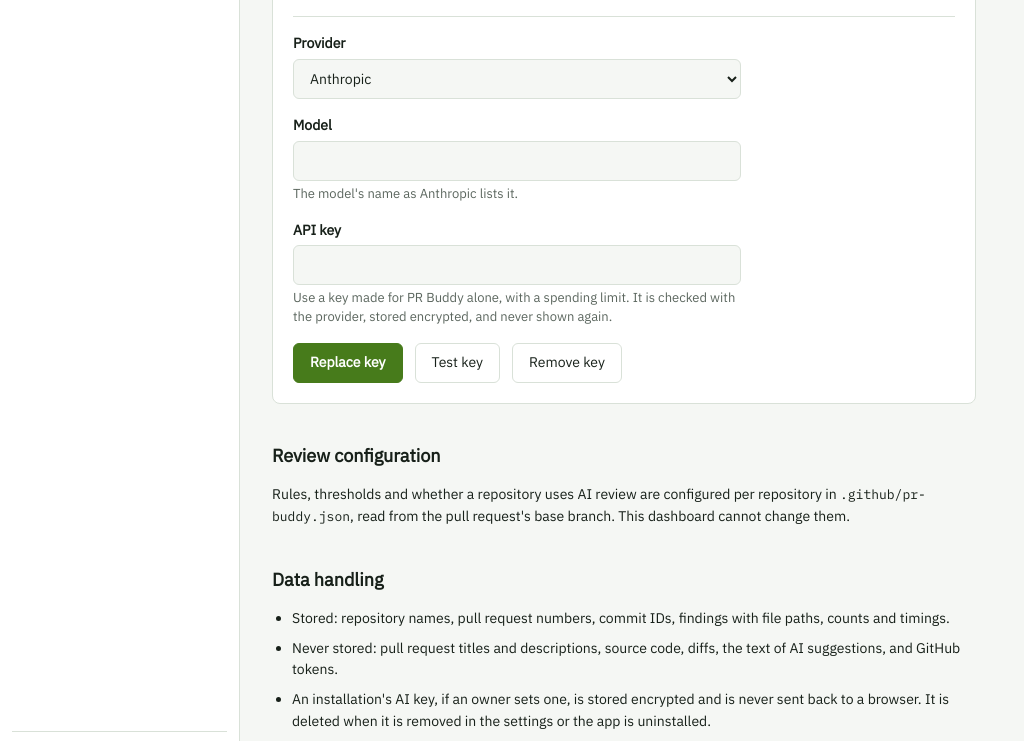
removing a key › asks first, and does nothing when the person keeps the key
The image size is (1024, 741).
(page scrolled)
Click the button "Remove key" at (567, 363), box [512, 343, 622, 383]
(page scrolled)
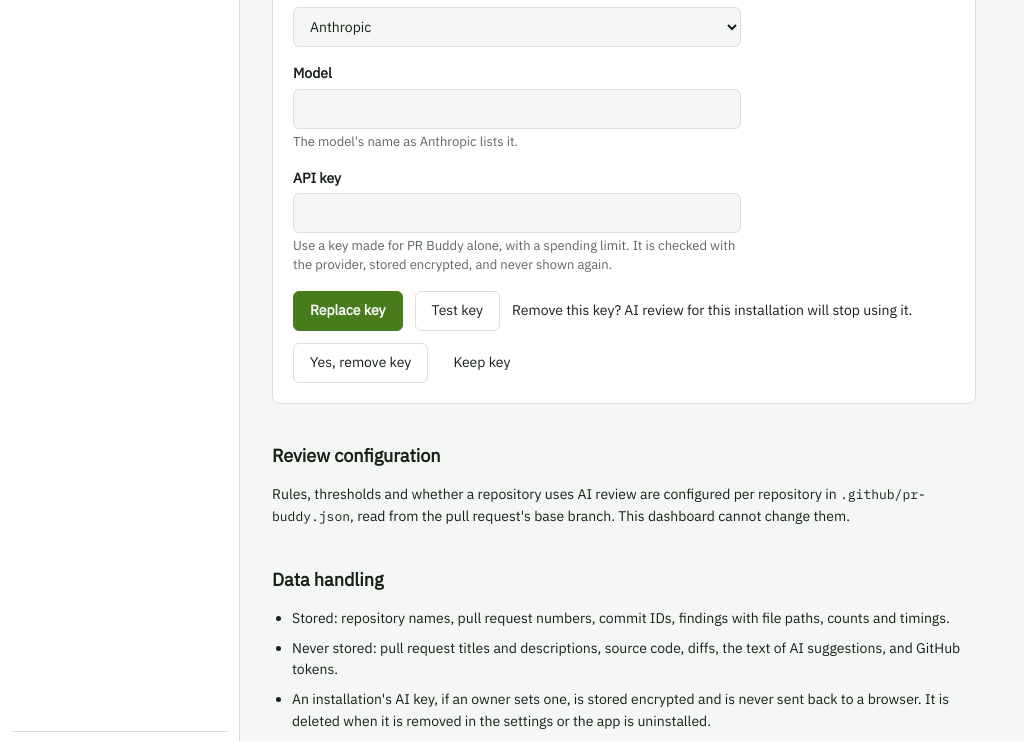
expect the element named "AI key of acme" shows "Remove this key?": met, box [512, 301, 912, 319]
Click the button "Keep key" at (482, 363), box [440, 343, 524, 383]
(page scrolled)
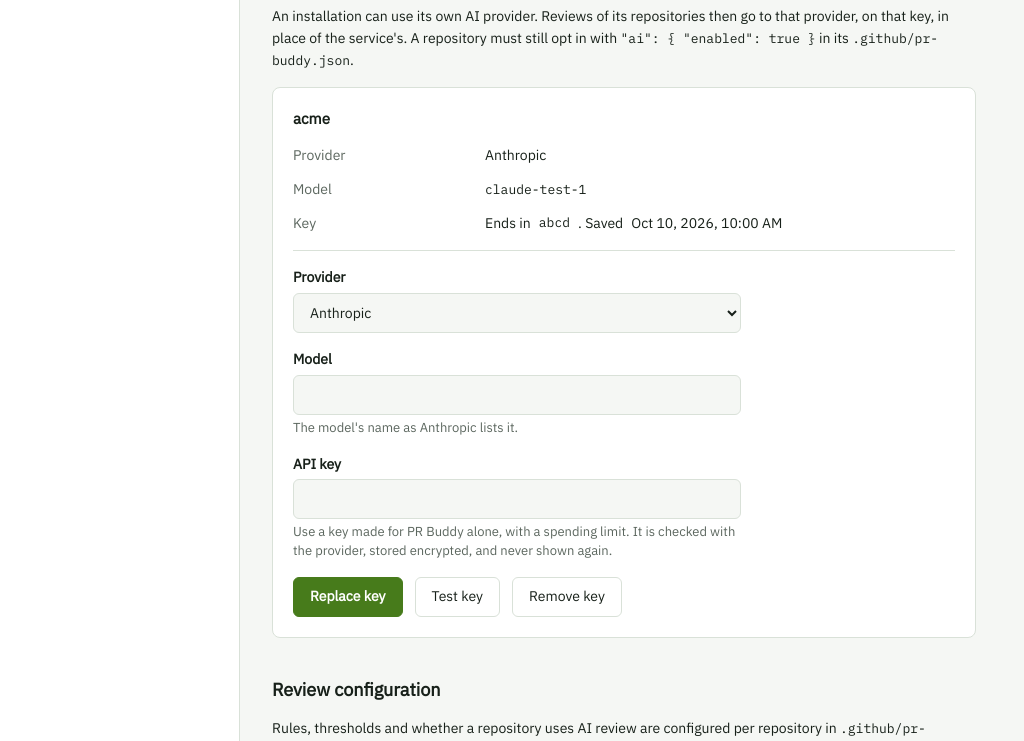
expect the element named "AI key of acme" shows "Ends in abcd": met, box [272, 87, 976, 638]
expect the text "AI key of acme" no longer shows "Remove this key?": met
